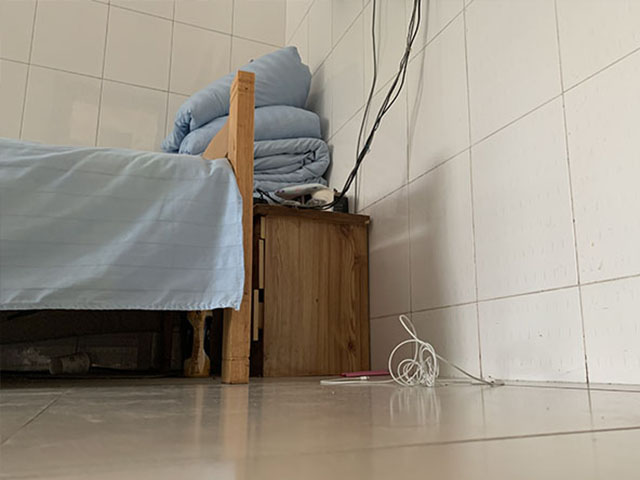bed: (2, 72, 259, 391)
cabinet: (255, 199, 377, 376)
wire: (318, 313, 505, 388)
